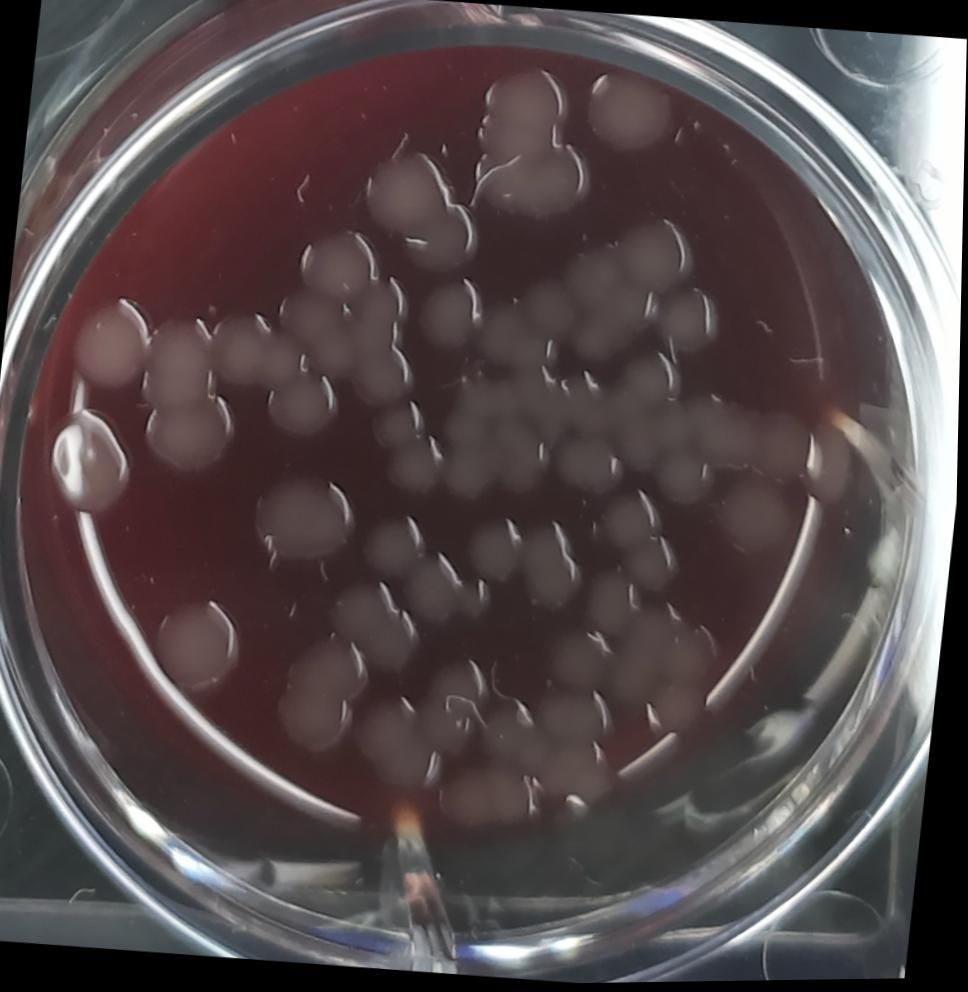vharveyi: (246, 457, 371, 575), (136, 583, 260, 699), (53, 403, 145, 528)
